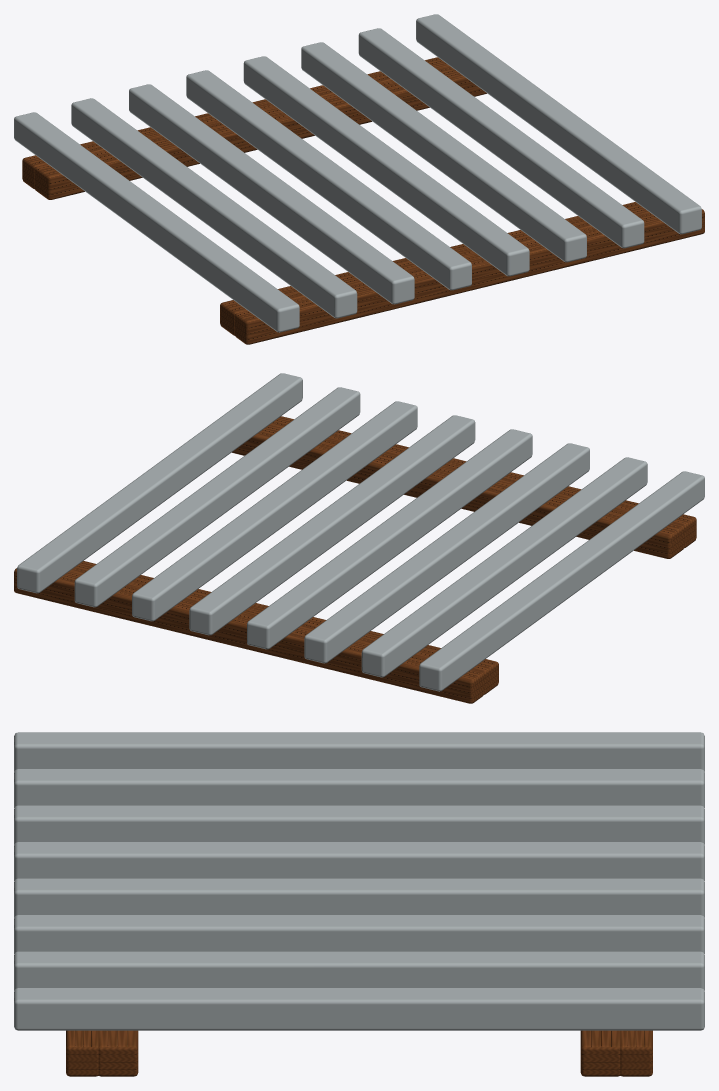
Rendered from bunker-shelter-construction-ribbed-shelter-ceiling-ba3eb678__23302.glb.
The picture shows the model from 3 angles, top to bottom: view 1: azimuth 30°, elevation 25°; view 2: azimuth 150°, elevation 25°; view 3: azimuth 270°, elevation 25°; orthographic projection. The views are drawn at different scales.
Parts seen in each view (by area): view 1: ribbed-shelter-ceiling; view 2: ribbed-shelter-ceiling; view 3: ribbed-shelter-ceiling.
Boxes of the visible parts, x1,y1,x2,y2 form: ribbed-shelter-ceiling: (14,14,704,344); ribbed-shelter-ceiling: (14,373,704,703); ribbed-shelter-ceiling: (14,732,704,1076).
Bounding box in the file's own units: 2 × 0.2001 × 2.
Materials: 2 (1 with a texture image).
